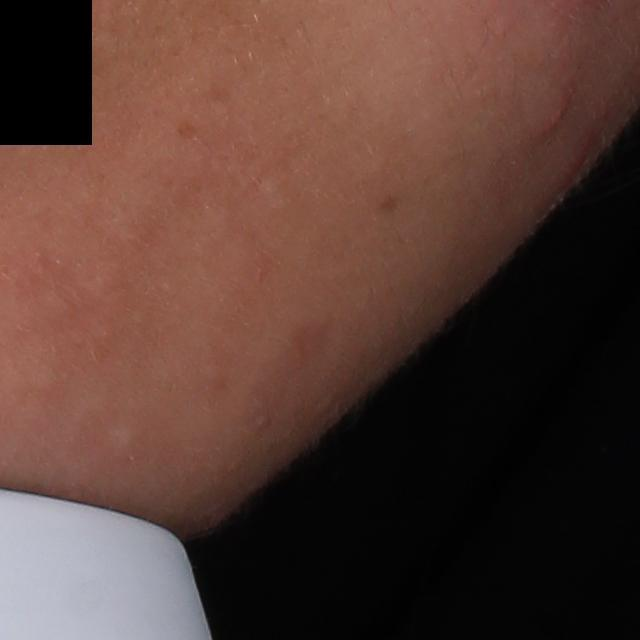papule: (528, 93, 573, 144)
